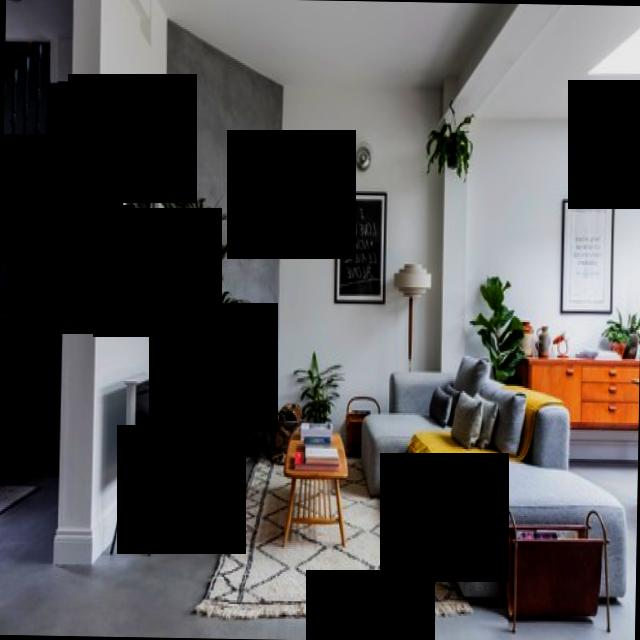natural desk: (283, 424, 352, 550)
natural sofa: (364, 361, 620, 594)
